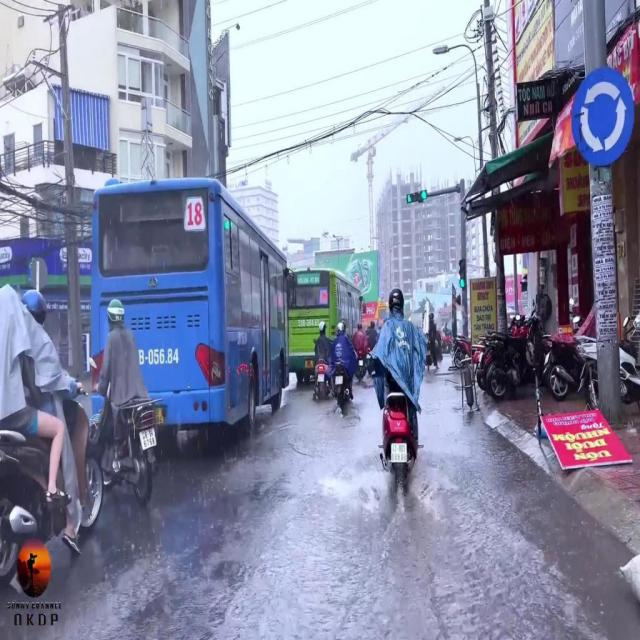noi_giao_nhau_chay_theo_vong: (572, 67, 634, 165)
